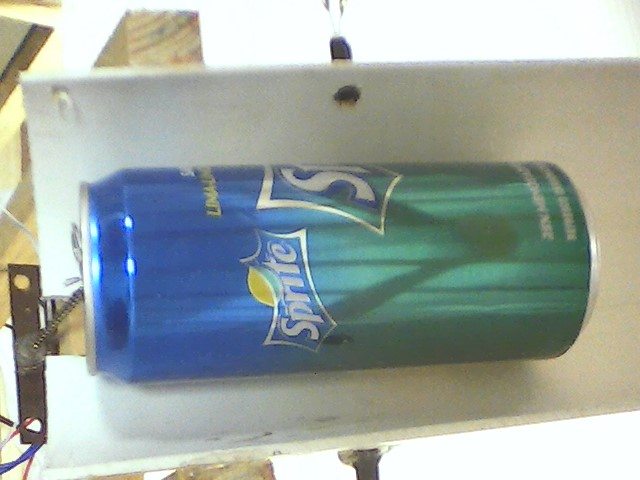lata: (76, 158, 603, 393)
